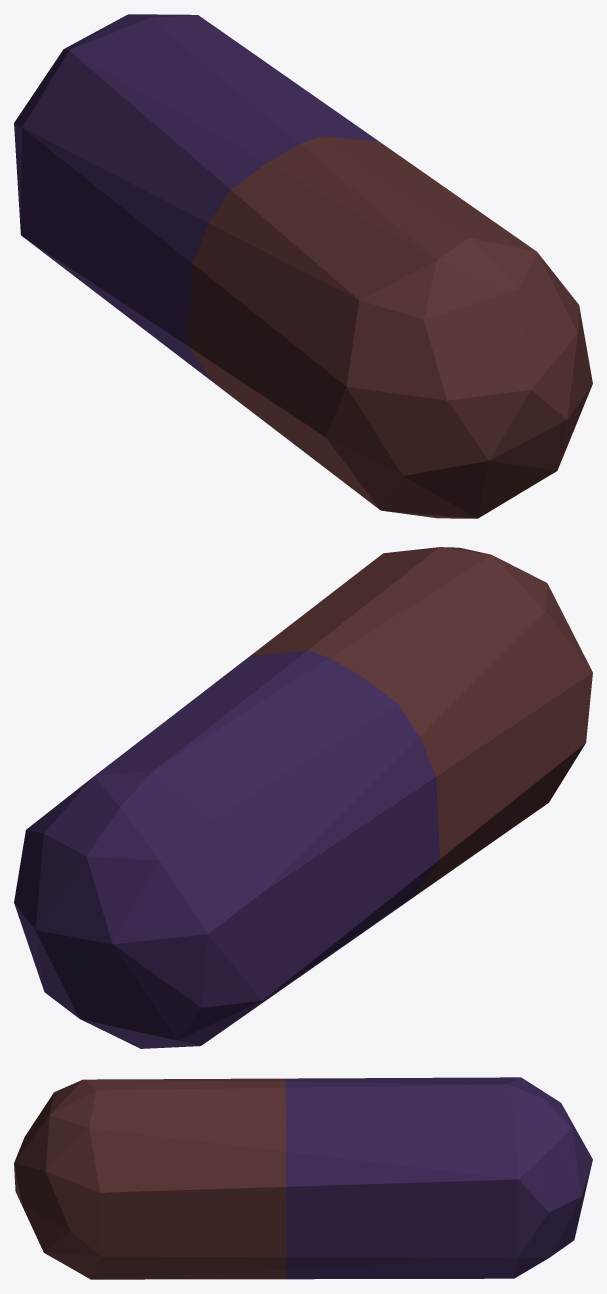
The model's file is pill.fbx.
3 views of the same model, one above another, from view 1: azimuth 30°, elevation 25°; view 2: azimuth 150°, elevation 25°; view 3: azimuth 270°, elevation 25° (orthographic). The views are drawn at different scales.
Visible parts, largest first — view 1: Pill; view 2: Pill; view 3: Pill.
Boxes of the visible parts, <box> form: Pill: <box>14,14,592,518</box>; Pill: <box>14,547,592,1048</box>; Pill: <box>14,1077,592,1279</box>.
Size of the model in its own units: 195 by 200 by 561.
